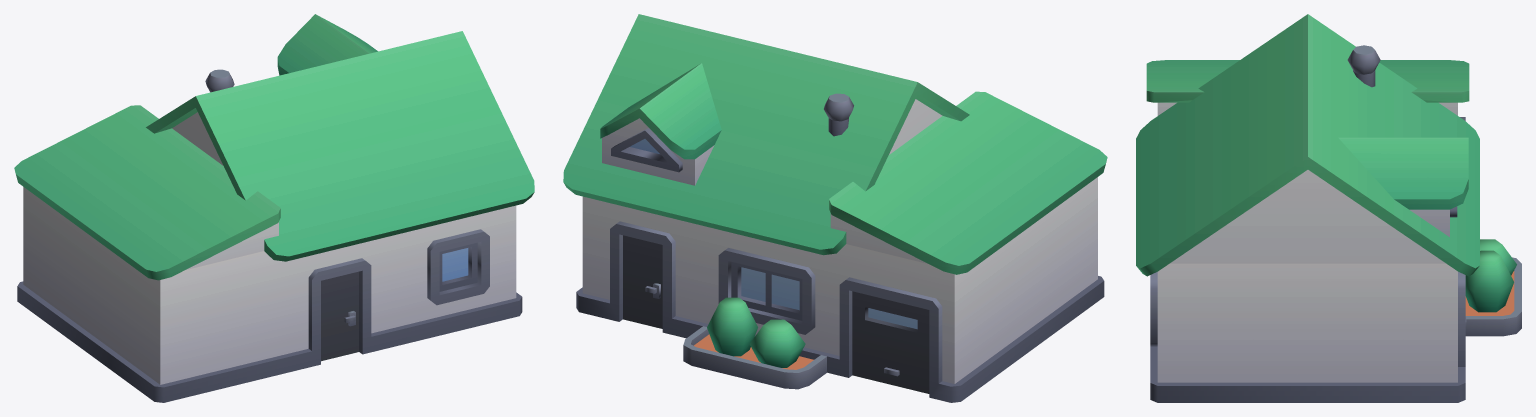
Rendered from k-city-kit-suburban-building-type-i.glb.
3 views of the same model, side by side, from view 1: azimuth 30°, elevation 25°; view 2: azimuth 150°, elevation 25°; view 3: azimuth 270°, elevation 25° (orthographic). The views are drawn at different scales.
Visible parts, largest first — view 1: building-type-i; view 2: building-type-i; view 3: building-type-i.
Part boxes in pixels (x1,y1,x2,y2): building-type-i: [14, 14, 534, 402]; building-type-i: [563, 14, 1107, 402]; building-type-i: [1136, 14, 1521, 402].
Size of the model in its own units: 1.29 by 0.7375 by 1.03.
Materials: 1 (1 with a texture image).
